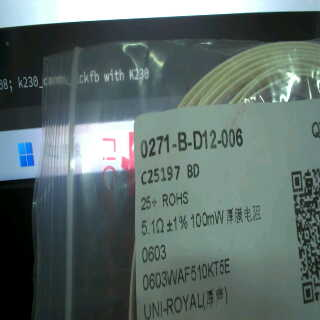5.1R: (138, 216, 169, 242)
